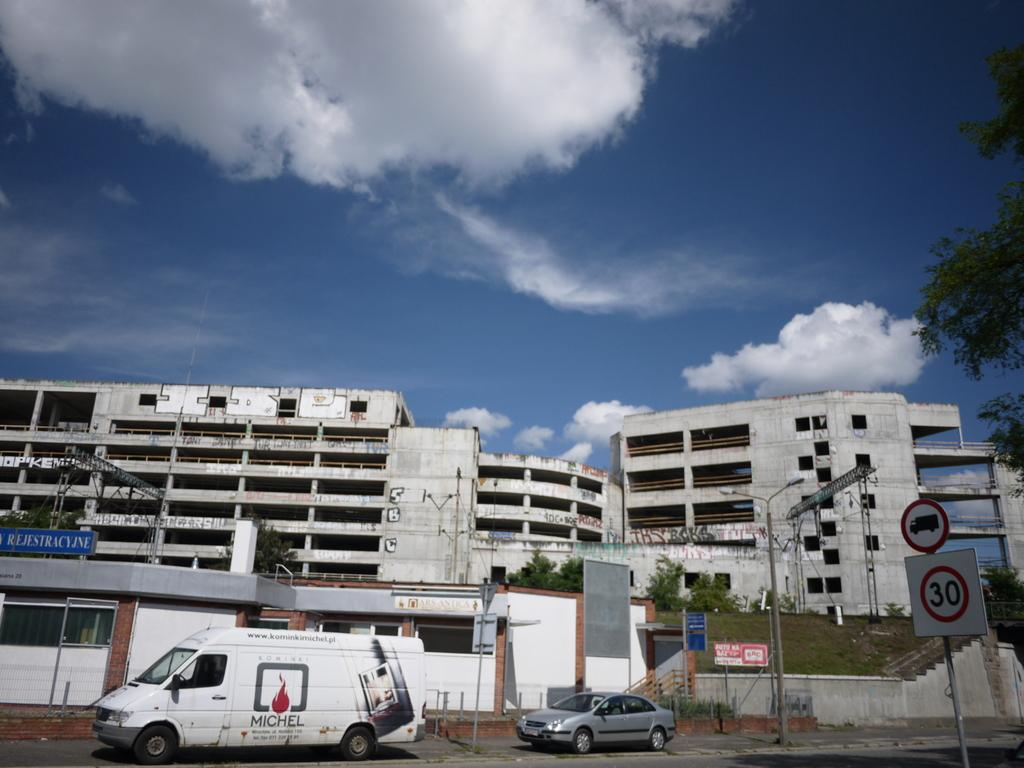vehicle: (90, 626, 426, 766), (517, 690, 677, 754)
